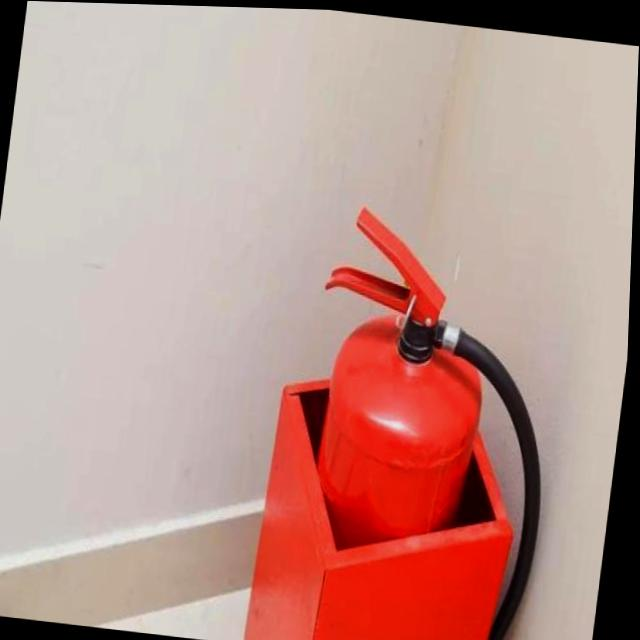FireExtinguisher: (279, 191, 580, 640)
